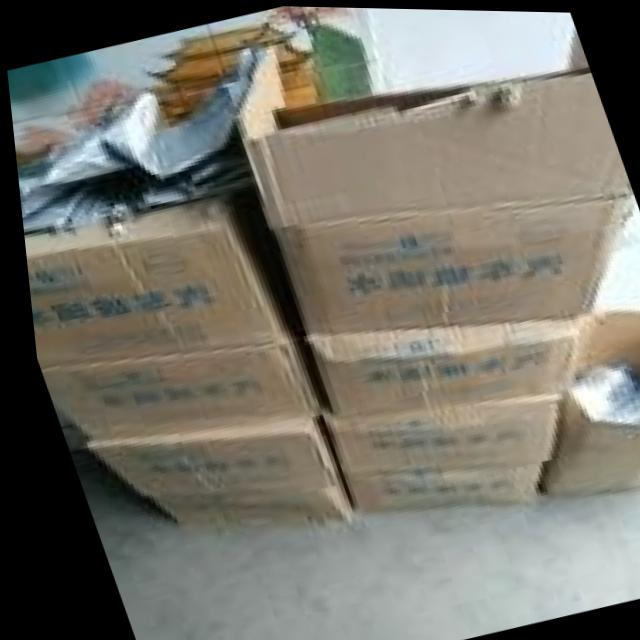box: (231, 27, 631, 334), (19, 192, 281, 369), (33, 322, 311, 438), (300, 310, 581, 413), (530, 306, 640, 497), (76, 415, 332, 496), (314, 396, 554, 478), (336, 459, 531, 511), (135, 482, 347, 525)
